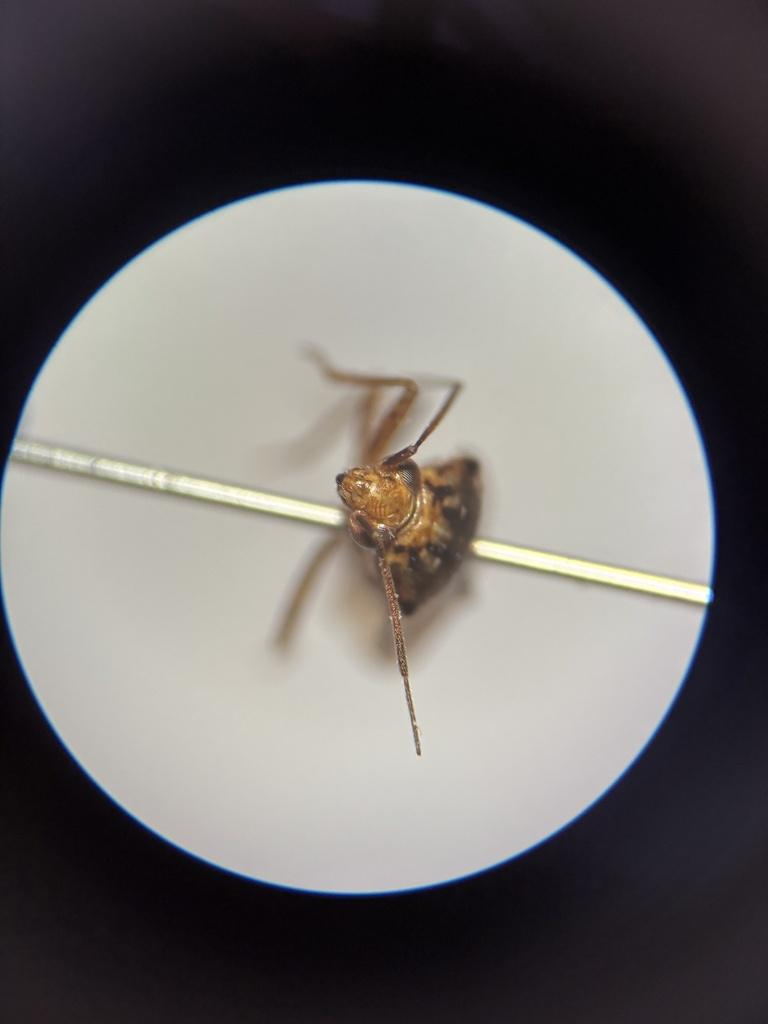plant_bugs: (244, 311, 552, 780)
